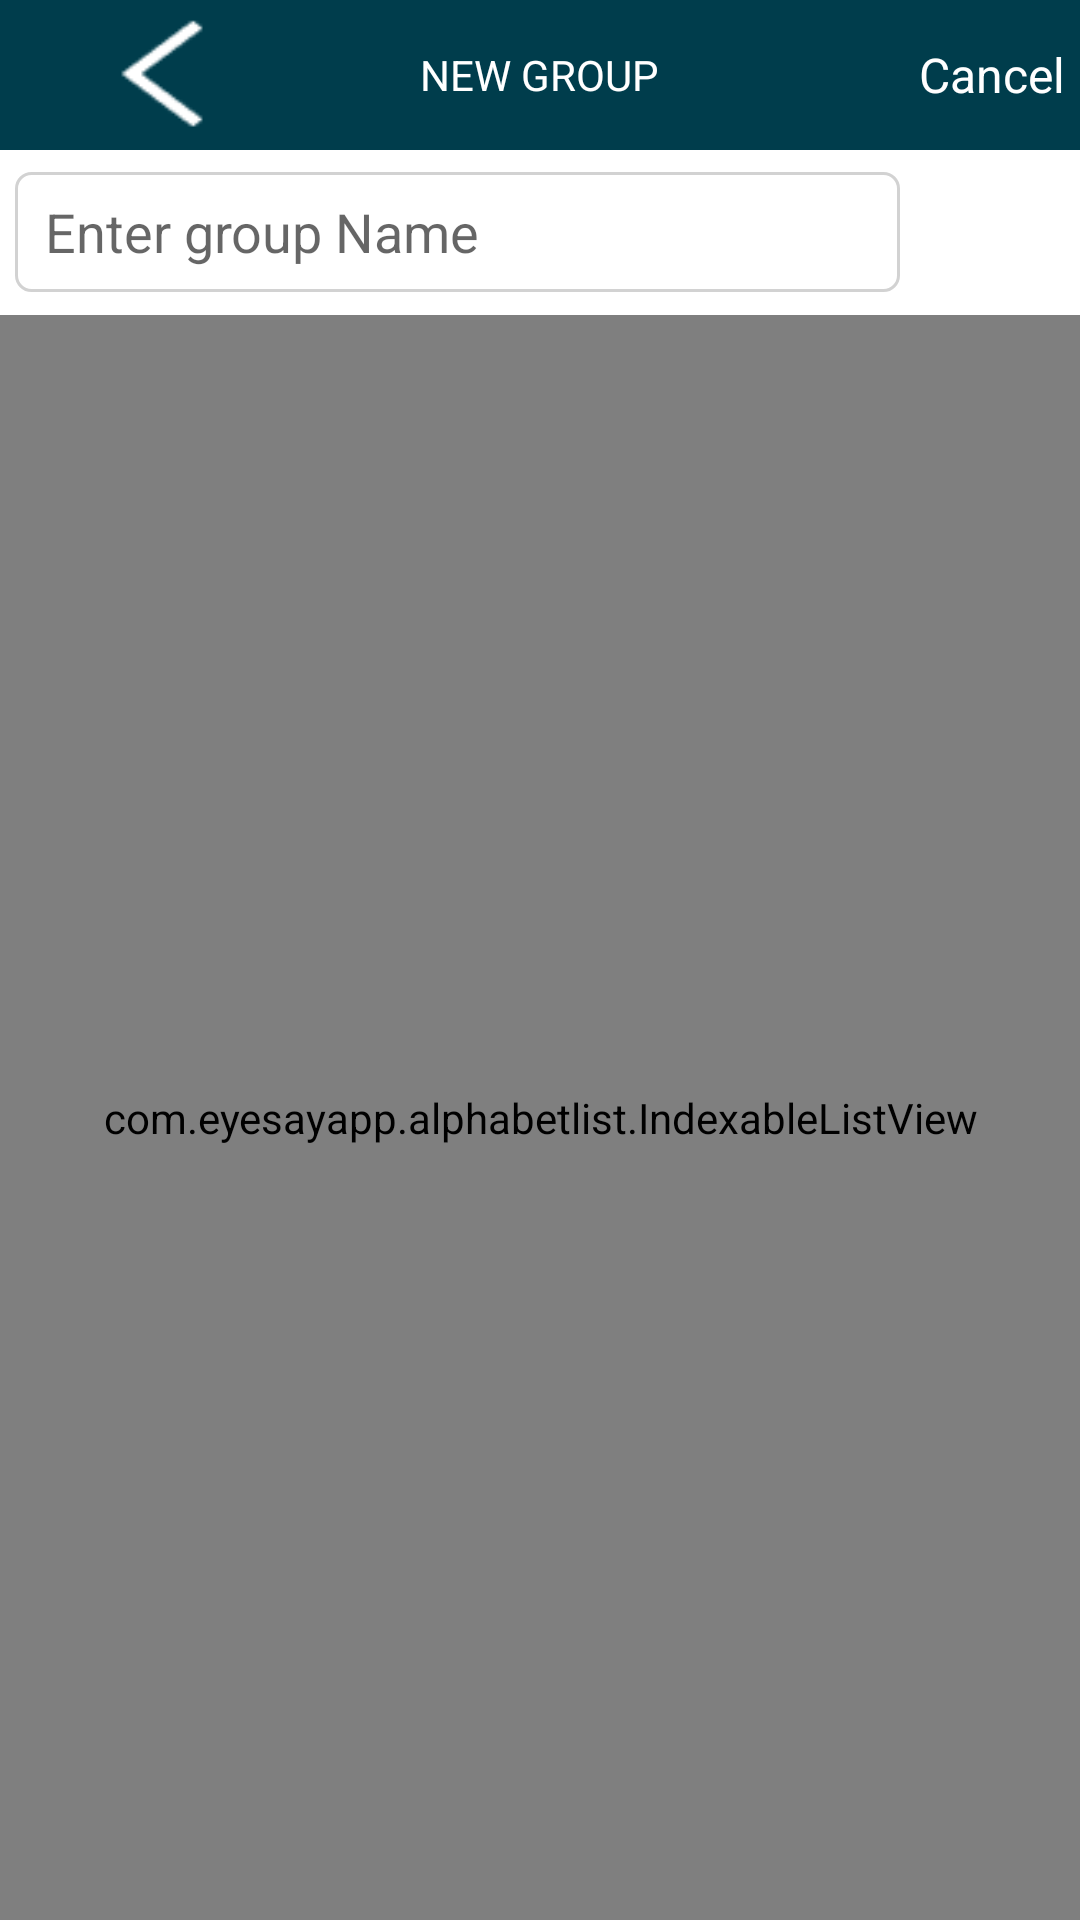

Icon click points for this 1080px×1920px phone screenshot, format (x,y):
back arrow: (162,73)
